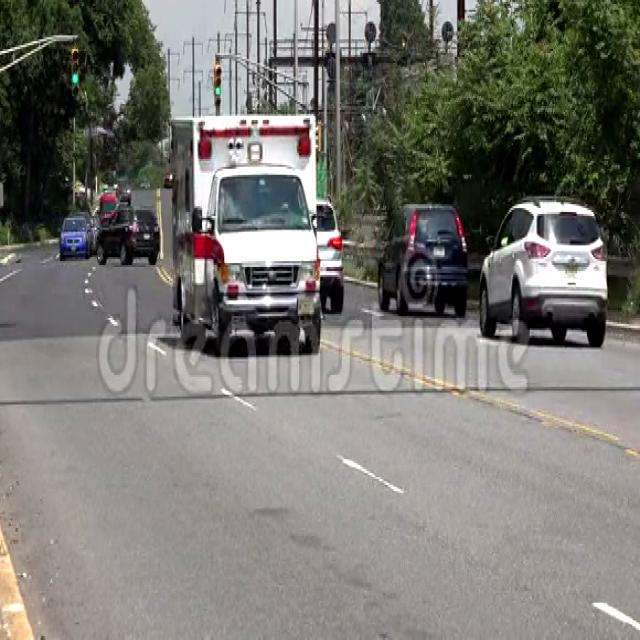ambulance: (170, 114, 322, 357)
